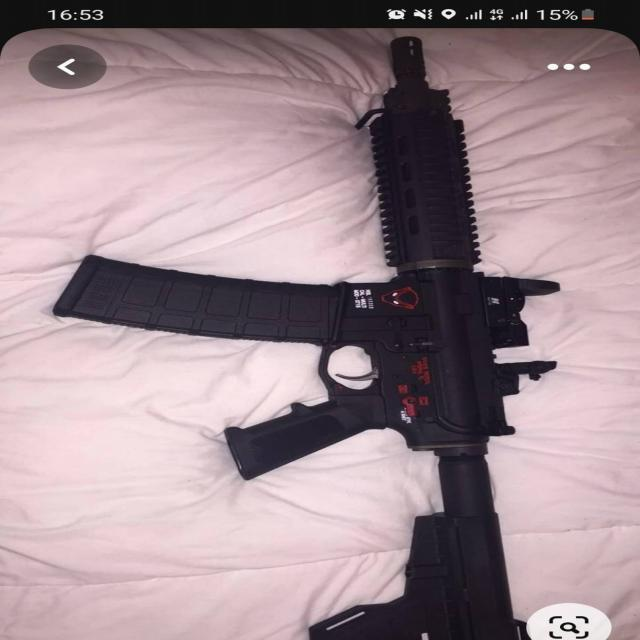m16: (148, 100, 598, 510)
